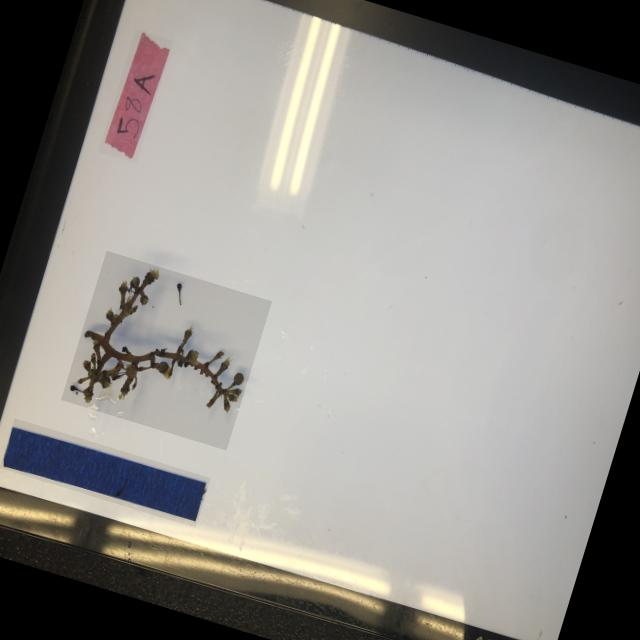index: (98, 28, 174, 162)
measure_label: (0, 416, 210, 526)
rachis_cluster: (61, 250, 272, 450)
